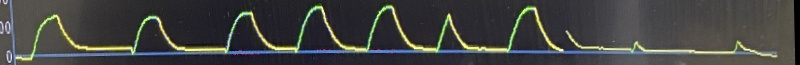normal_volume: (24, 5, 567, 59)
